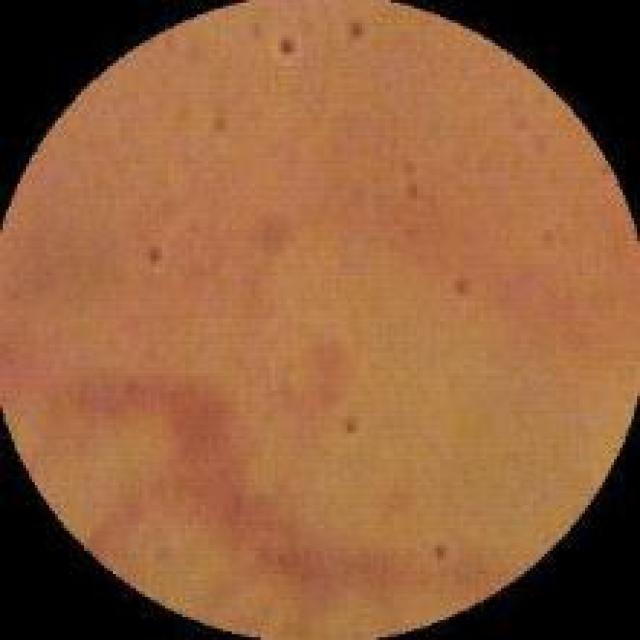blur: (13, 6, 627, 602)
color misalignment: (388, 157, 430, 217), (445, 256, 479, 320), (139, 221, 171, 288), (267, 19, 304, 73), (334, 6, 373, 54), (204, 90, 236, 144), (421, 531, 453, 576), (338, 396, 358, 443)
